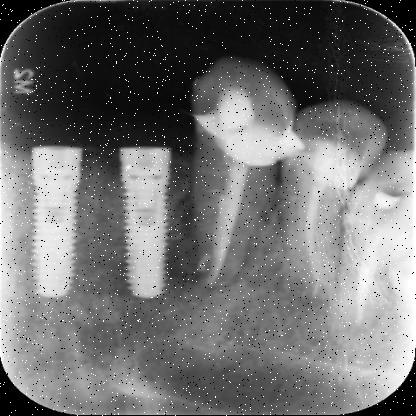Bego: (28, 144, 88, 304), (120, 145, 179, 302)
